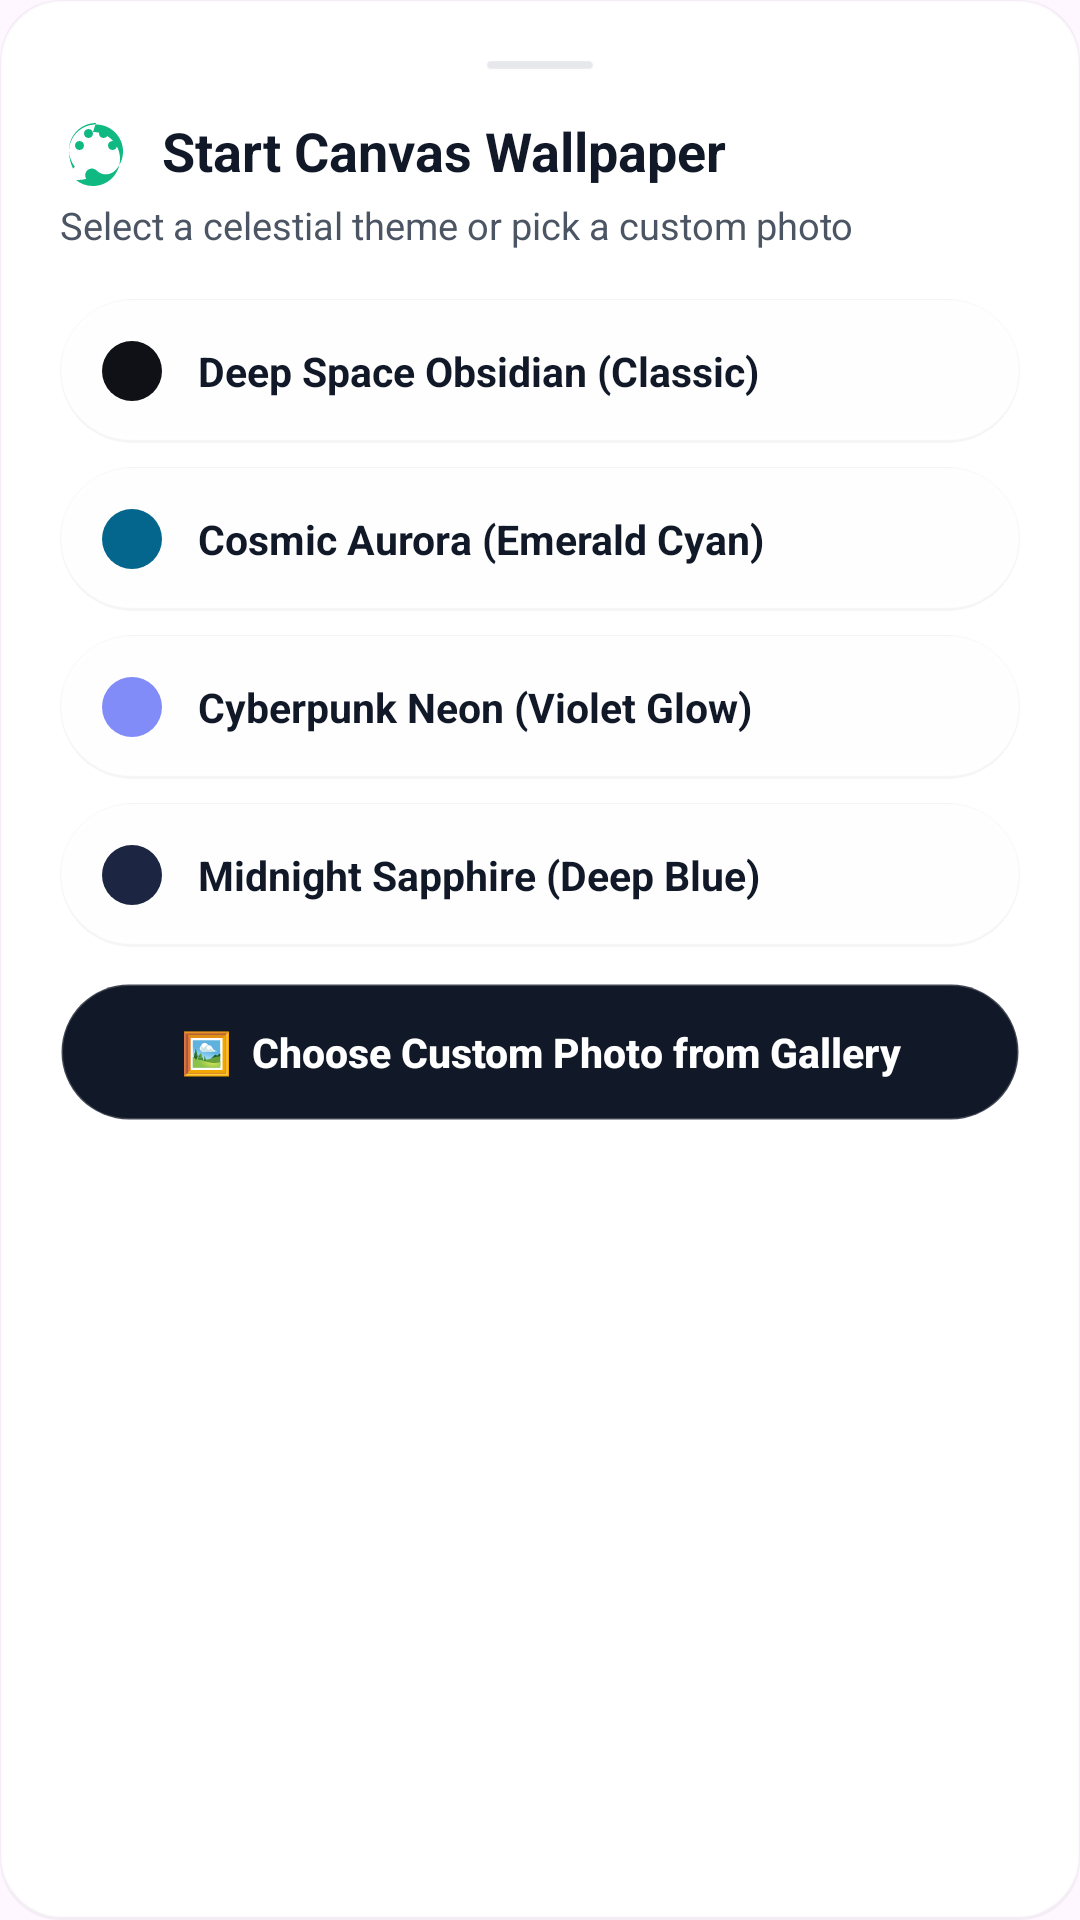

Screen size 1080 x 1920. Icon name, then its center in pixels as (x,y):
palette: (96,154)
